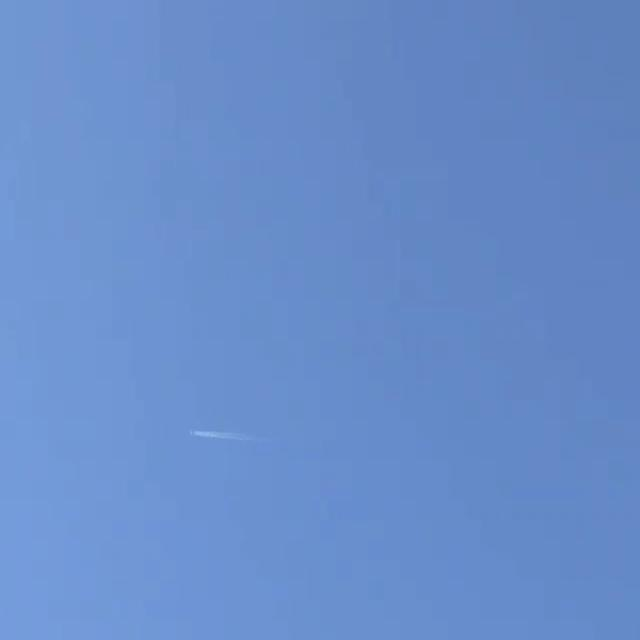AirPlane: (172, 410, 217, 459)
